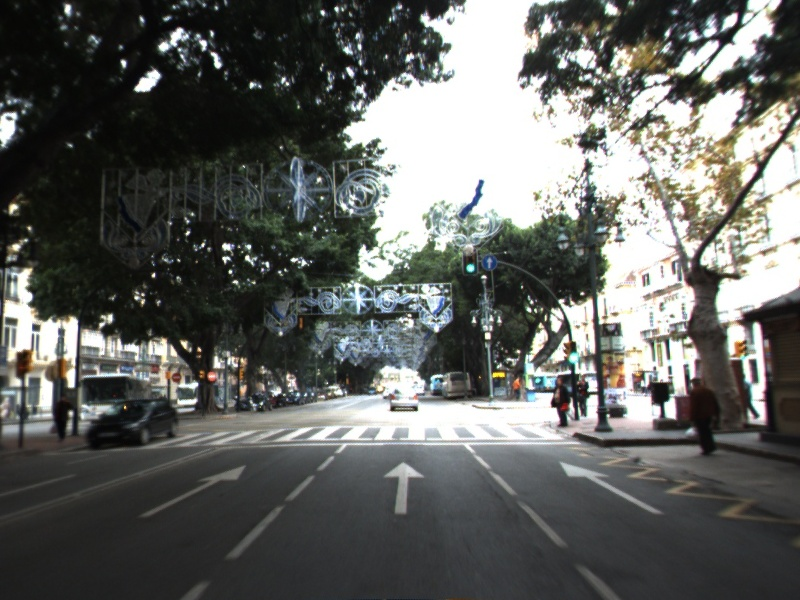STRAIGHT: (134, 463, 249, 520), (557, 459, 667, 517), (380, 459, 428, 516)
